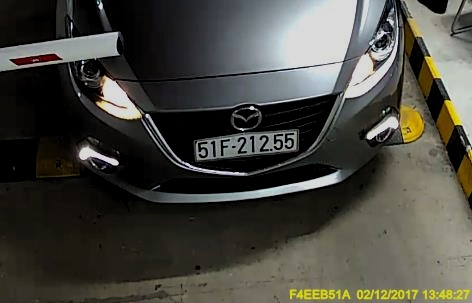plate: (192, 129, 304, 160)
